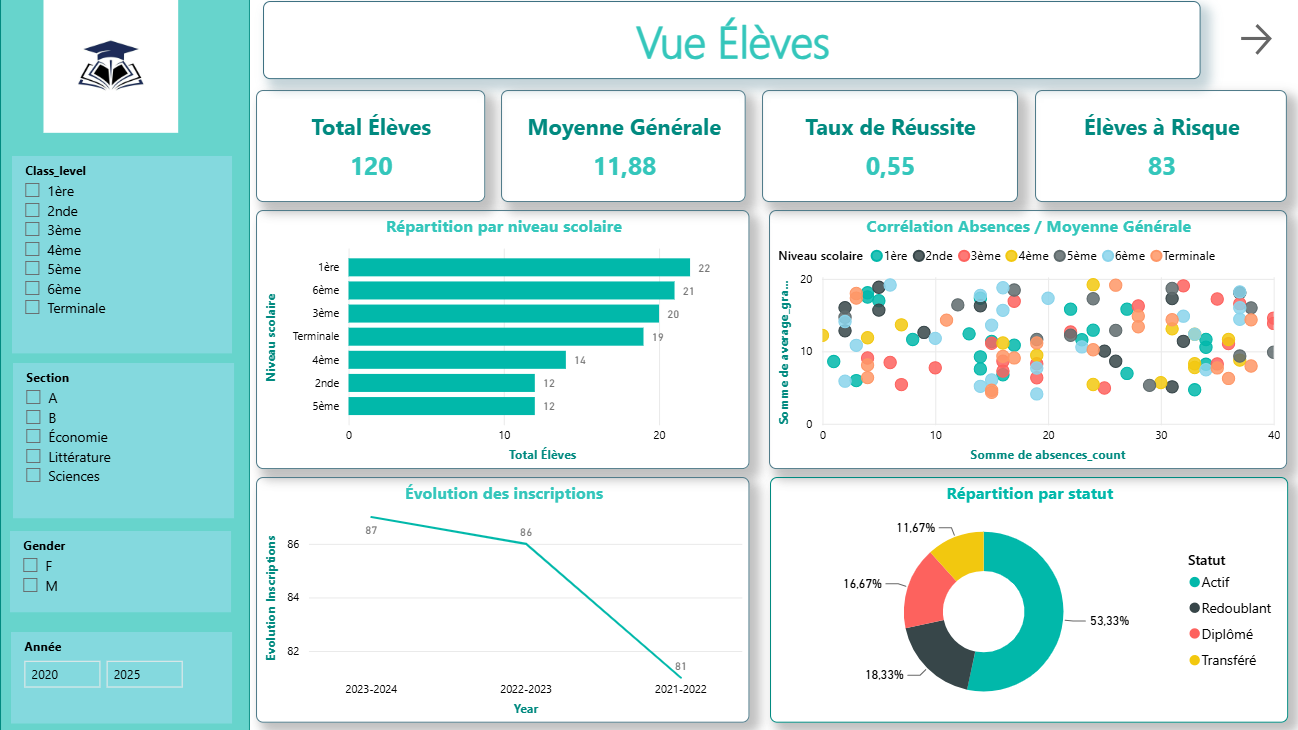

This screenshot's page, from the dashboard's own definition file:
{"tool":"powerbi","page":{"name":"Vue Élèves","canvas":[1280,720],"ordinal":0},"visuals":[{"type":"shape","box":[10.7,0,243.2,719.8],"z":0},{"type":"textbox","box":[266.5,7.8,912.3,75.9],"z":1000},{"type":"cardVisual","fields":{"Data":["students.Total Élèves"]},"box":[259.7,94.3,222.7,108.9],"z":2000},{"type":"cardVisual","fields":{"Data":["students.Moyenne Générale"]},"box":[498,94.3,238.3,108.9],"z":3000},{"type":"cardVisual","fields":{"Data":["courses.Taux de Réussite"]},"box":[751.9,94.3,249,108.9],"z":4000},{"type":"cardVisual","fields":{"Data":["students.Élèves à Risque"]},"box":[1017.4,94.3,245.1,108.9],"z":5000},{"type":"slicer","fields":{"Values":["DimDate.Année"]},"box":[21.4,621.5,215,88.5],"z":6000},{"type":"slicer","fields":{"Values":["students.class_level"]},"box":[22.5,158.9,214.1,191.5],"z":7000},{"type":"slicer","fields":{"Values":["students.gender"]},"box":[20.3,522.8,215.2,78.9],"z":8000},{"type":"slicer","fields":{"Values":["students.section"]},"box":[23.7,359.4,215.2,151],"z":9000},{"type":"image","box":[0,0,236.6,140.8],"z":10000},{"type":"clusteredBarChart","title":"Répartition par niveau scolaire","fields":{"Category":["students.class_level"],"Y":["students.Total Élèves"]},"box":[259.7,211.1,480.5,251.9],"z":11000},{"type":"lineChart","title":"Évolution des inscriptions","fields":{"Y":["students.Évolution Inscriptions"],"Category":["courses.year"]},"box":[259.7,470.8,480.5,239.3],"z":12000},{"type":"scatterChart","title":"Corrélation Absences / Moyenne Générale","fields":{"X":["Sum(students.absences_count)"],"Y":["Sum(students.average_grade)"],"Series":["students.class_level"],"Category":["students.student_id"]},"box":[758.7,211.1,503.8,251.9],"z":13000},{"type":"donutChart","title":"Répartition par statut","fields":{"Category":["students.status"],"Y":["students.Total Élèves"],"Series":["students.status"]},"box":[759.4,471,503.7,238.9],"z":14000},{"type":"actionButton","box":[1211.9,25.3,50.6,39.9],"z":15000}]}

Visuals, with their boxes in screenshot pixels (x1, y1, x2, y2), scaled from the page's 1280x720 canvas onto the 1298x730 screenshot:
shape: detection(11, 0, 257, 729)
textbox: detection(270, 8, 1195, 85)
cardVisual - students.Total Élèves: detection(263, 96, 489, 206)
cardVisual - students.Moyenne Générale: detection(505, 96, 747, 206)
cardVisual - courses.Taux de Réussite: detection(762, 96, 1015, 206)
cardVisual - students.Élèves à Risque: detection(1032, 96, 1280, 206)
slicer - DimDate.Année: detection(22, 630, 240, 720)
slicer - students.class_level: detection(23, 161, 240, 355)
slicer - students.gender: detection(21, 530, 239, 610)
slicer - students.section: detection(24, 364, 242, 517)
image: detection(0, 0, 240, 143)
"Répartition par niveau scolaire" clusteredBarChart: detection(263, 214, 751, 469)
"Évolution des inscriptions" lineChart: detection(263, 477, 751, 720)
"Corrélation Absences / Moyenne Générale" scatterChart: detection(769, 214, 1280, 469)
"Répartition par statut" donutChart: detection(770, 478, 1281, 720)
actionButton: detection(1229, 26, 1280, 66)
